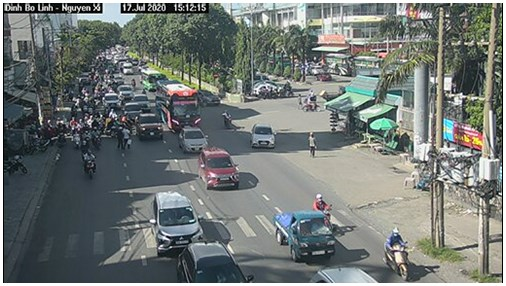di_bo: (306, 129, 320, 158), (123, 126, 133, 151), (115, 125, 123, 150)
xe_buyt: (154, 78, 202, 132)
xe_hoi: (148, 185, 207, 258), (198, 146, 242, 191), (134, 112, 166, 142), (249, 120, 276, 154), (177, 126, 208, 154), (102, 91, 122, 111), (123, 99, 141, 116)
xe_may: (382, 224, 411, 279), (313, 190, 340, 231), (81, 148, 99, 182), (91, 124, 102, 149), (72, 128, 83, 151), (56, 122, 68, 143), (82, 126, 92, 149), (223, 110, 233, 132)
xe_tai: (267, 209, 336, 263)
